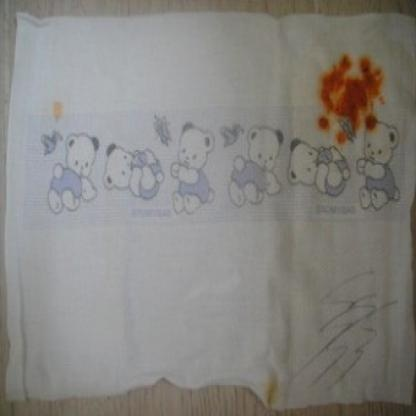kimchi: (316, 56, 388, 140), (334, 83, 370, 116), (46, 96, 66, 124), (334, 56, 353, 76), (362, 110, 379, 131), (359, 57, 378, 74), (333, 129, 346, 145), (315, 116, 327, 128)
